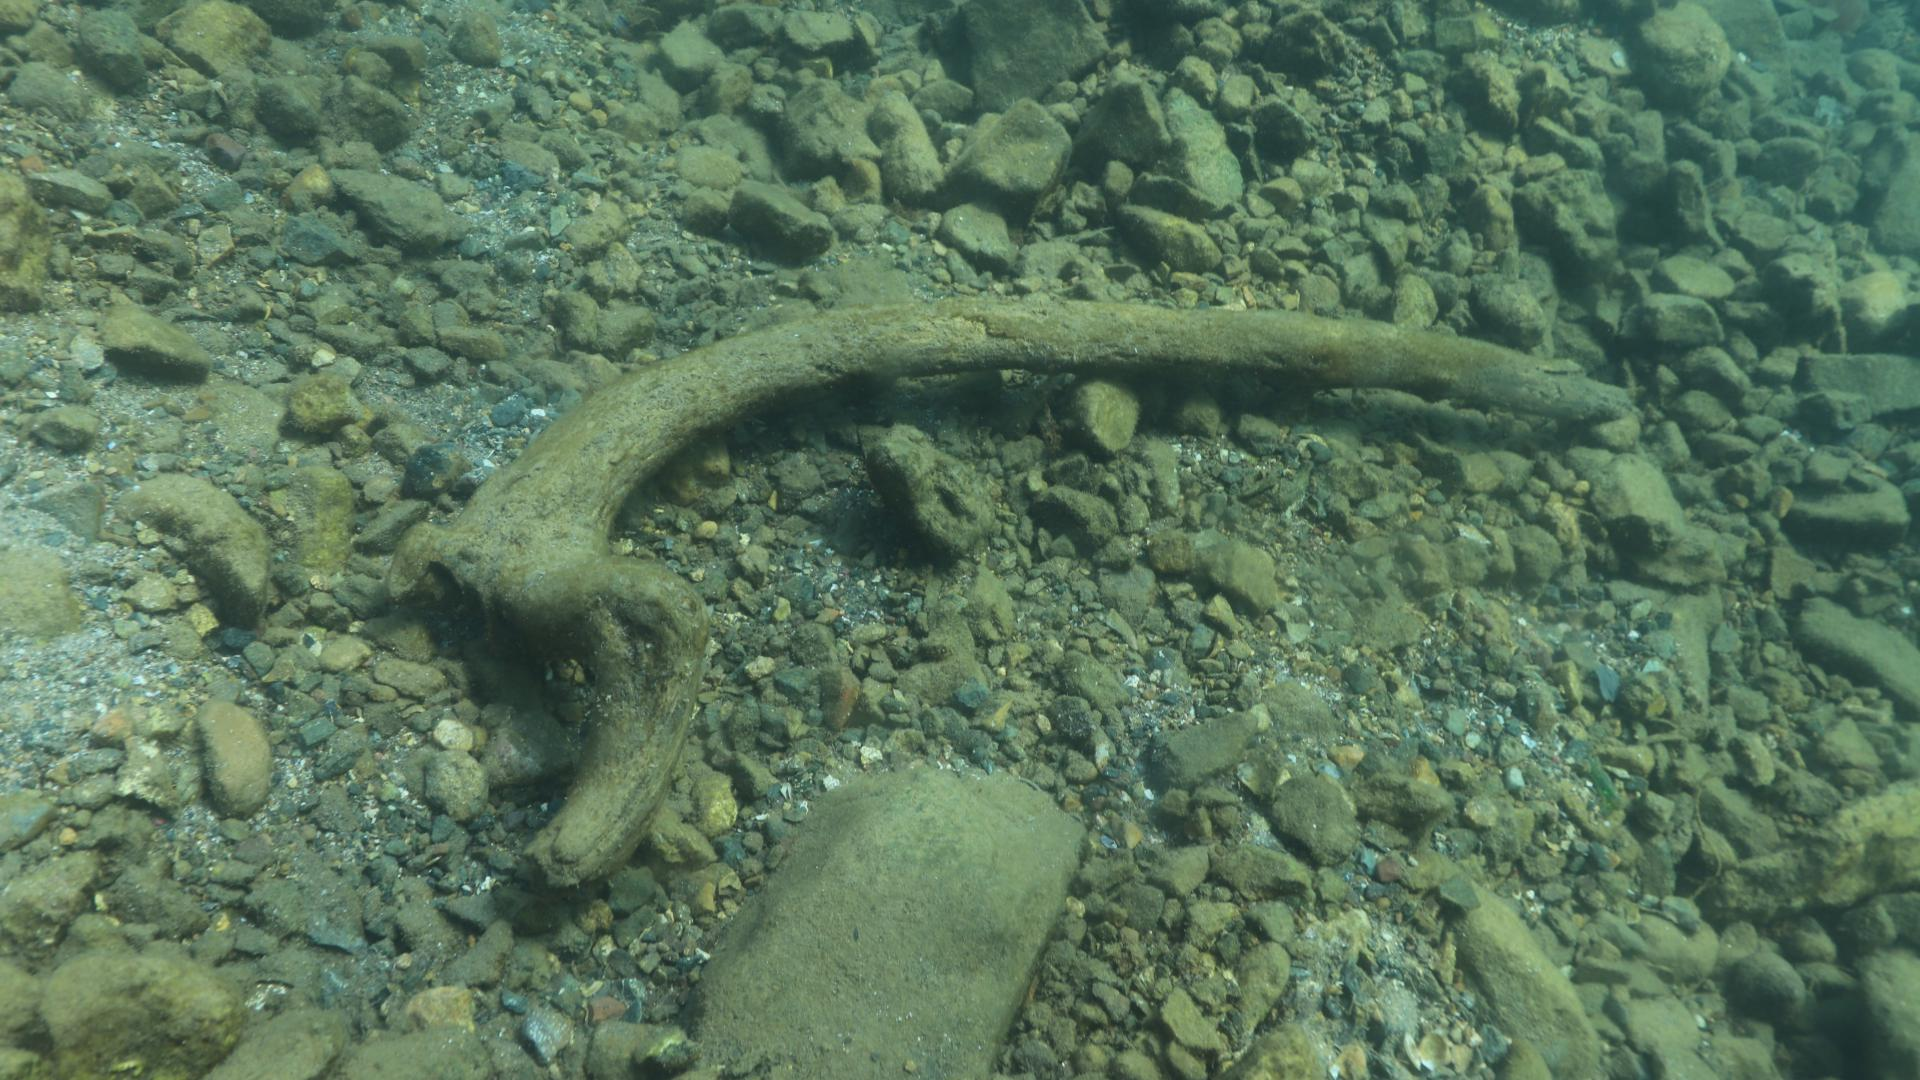wood: (384, 291, 1633, 891)
